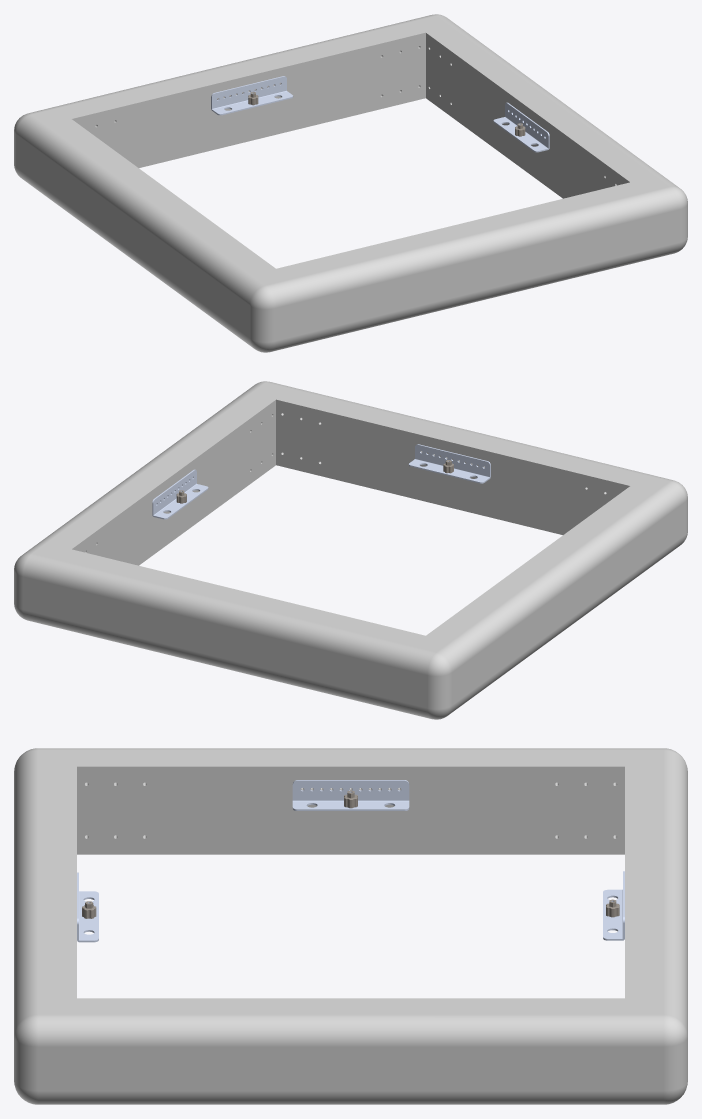
3 renders of one model, top to bottom at view 1: azimuth 30°, elevation 25°; view 2: azimuth 150°, elevation 25°; view 3: azimuth 270°, elevation 25°, orthographic. The views are drawn at different scales.
Visible parts, largest first — view 1: WCP-CC2025-02-001, WCP-CC2025-02-003 (×2), WCP-CC2025-02-002 (×2), WCP-1576 Rev1 (×2); view 2: WCP-CC2025-02-001, WCP-CC2025-02-003 (×2), WCP-CC2025-02-002 (×2), WCP-1576 Rev1 (×2); view 3: WCP-CC2025-02-001, WCP-CC2025-02-002 (×2), WCP-CC2025-02-003 (×2), WCP-1576 Rev1 (×3).
Boxes of the visible parts, <box> form: WCP-CC2025-02-001: <box>14,14,687,352</box>; WCP-CC2025-02-003 (×2): <box>66,28,635,272</box>; WCP-CC2025-02-002 (×2): <box>57,26,644,274</box>; WCP-1576 Rev1 (×2): <box>211,76,549,152</box>; WCP-CC2025-02-001: <box>14,381,687,719</box>; WCP-CC2025-02-003 (×2): <box>66,395,635,639</box>; WCP-CC2025-02-002 (×2): <box>57,393,644,641</box>; WCP-1576 Rev1 (×2): <box>152,444,490,519</box>; WCP-CC2025-02-001: <box>14,748,687,1104</box>; WCP-CC2025-02-002 (×2): <box>62,760,639,1004</box>; WCP-CC2025-02-003 (×2): <box>62,766,639,998</box>; WCP-1576 Rev1 (×3): <box>77,780,624,942</box>.
Size of the model in its own units: 0.8827 by 0.127 by 0.8827.
